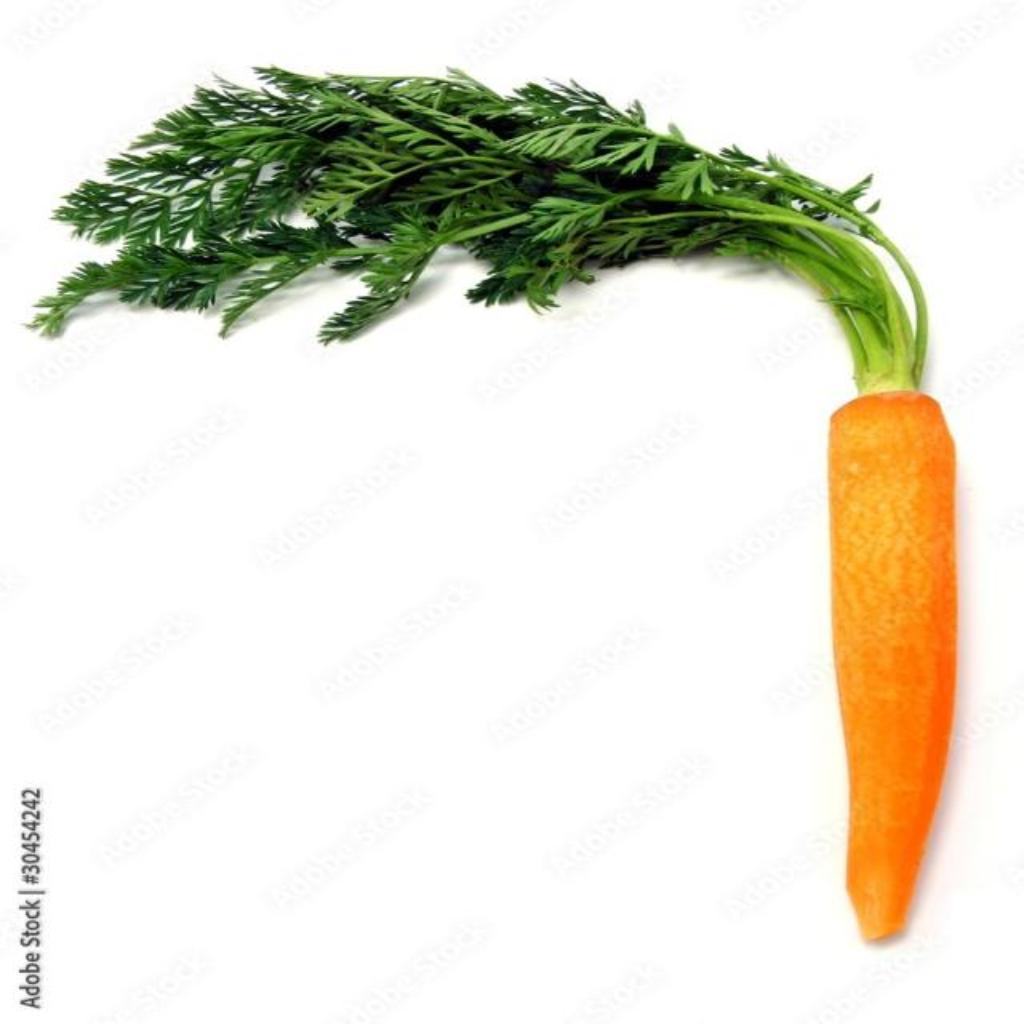carrot: (830, 392, 954, 939)
